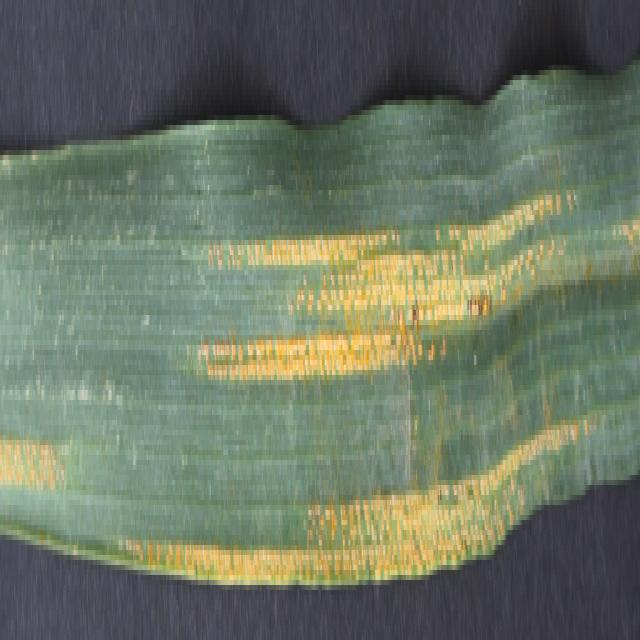leaf rust: (126, 170, 638, 585), (1, 310, 79, 590)
